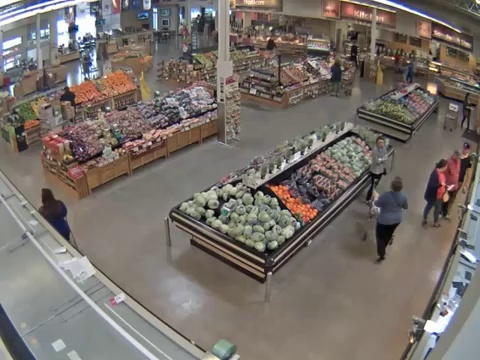face: (376, 139, 384, 148)
